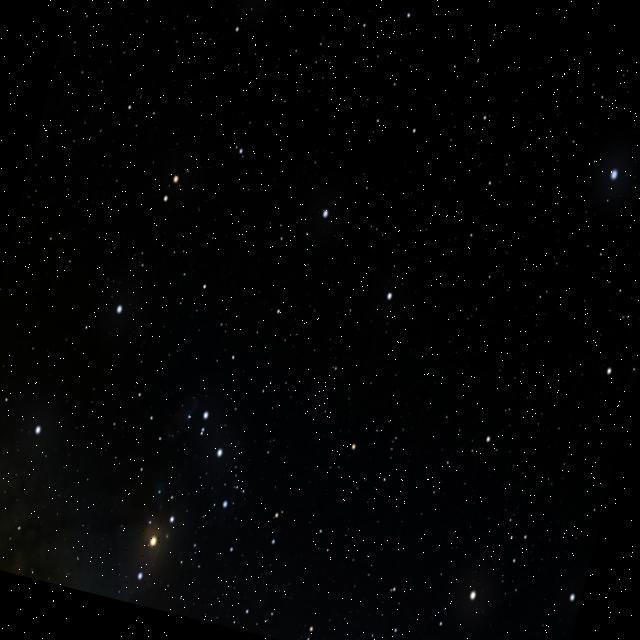Libra: (212, 191, 412, 452)
